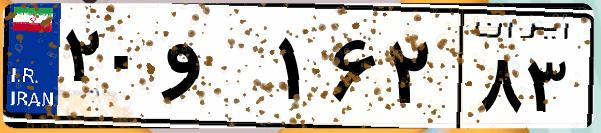0: (110, 28, 158, 98)
1: (270, 28, 330, 110)
2: (385, 28, 445, 110), (57, 26, 110, 100)
3: (525, 38, 570, 115)
6: (330, 28, 385, 110)
8: (475, 38, 525, 113)
و: (158, 20, 270, 120)
